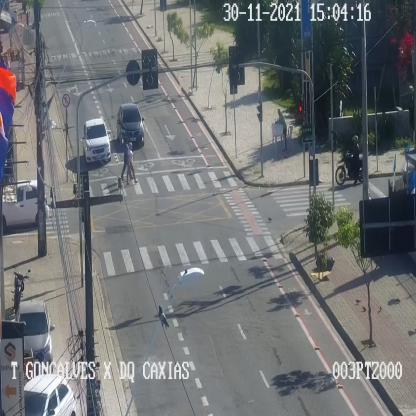car: (17, 301, 52, 372), (24, 374, 76, 415), (82, 118, 110, 161), (116, 103, 144, 144)
motorbike: (335, 134, 365, 184), (14, 272, 24, 313)
person: (121, 136, 133, 180), (127, 142, 137, 186), (278, 108, 286, 150)
